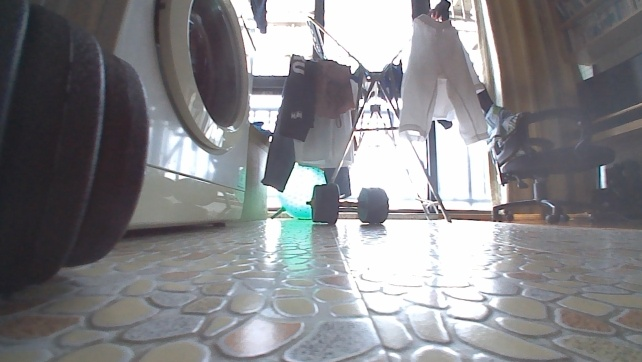washing_machine: (105, 0, 258, 233)
